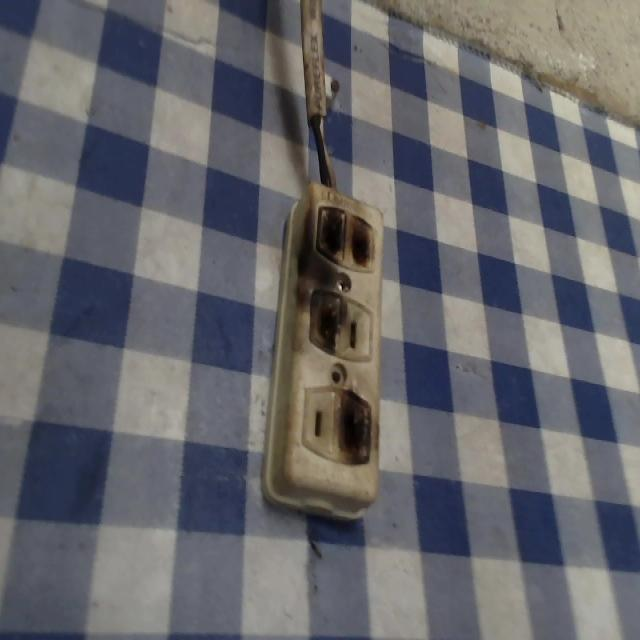-: (312, 202, 377, 270), (336, 386, 375, 466), (306, 284, 343, 349)
